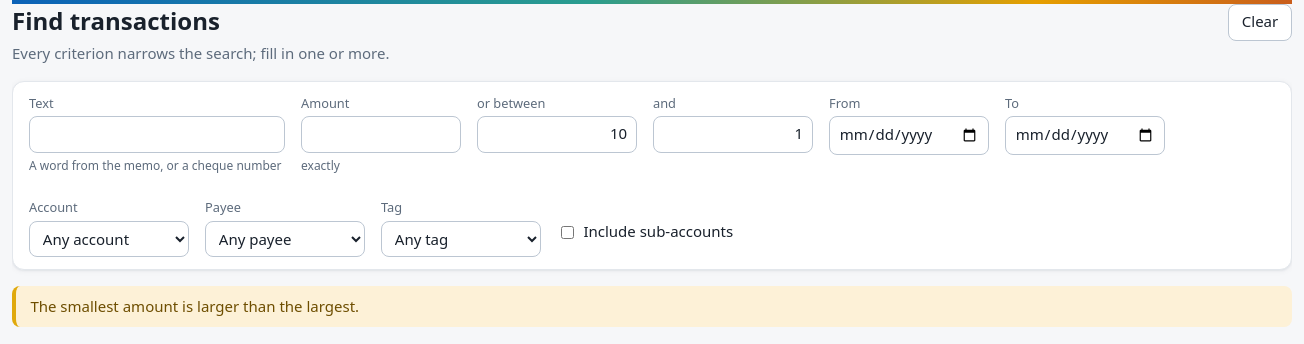
Test case: SearchPage › refuses nonsense locally and reports the server's answer
The width and height of the screenshot is (1304, 344).
Expected: the message shows "smallest amount is larger", [30,296,359,316]
Replace the text in the field named "Largest amount" with "abc" at (733,134), box [653,116,813,153]
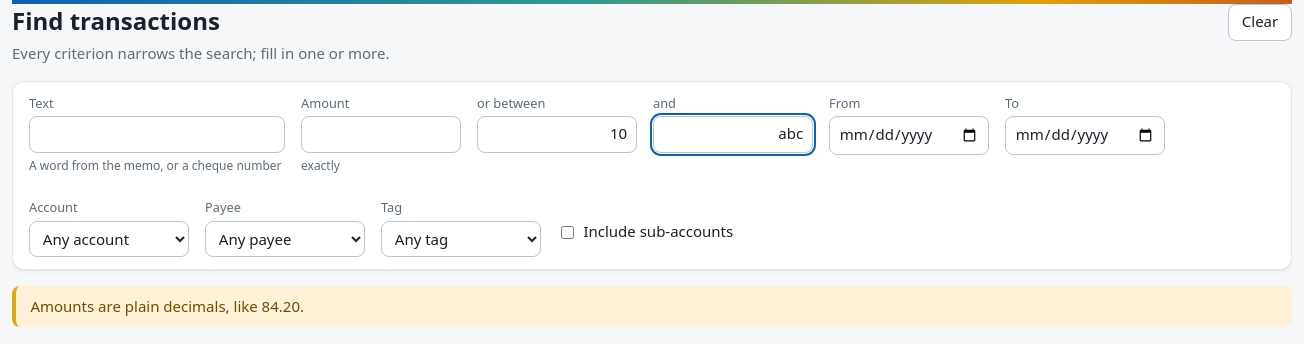
Result: the message shows "plain decimals" at [30,296,304,316]
Clear the field named "Largest amount" at (733,134), box [653,116,813,153]
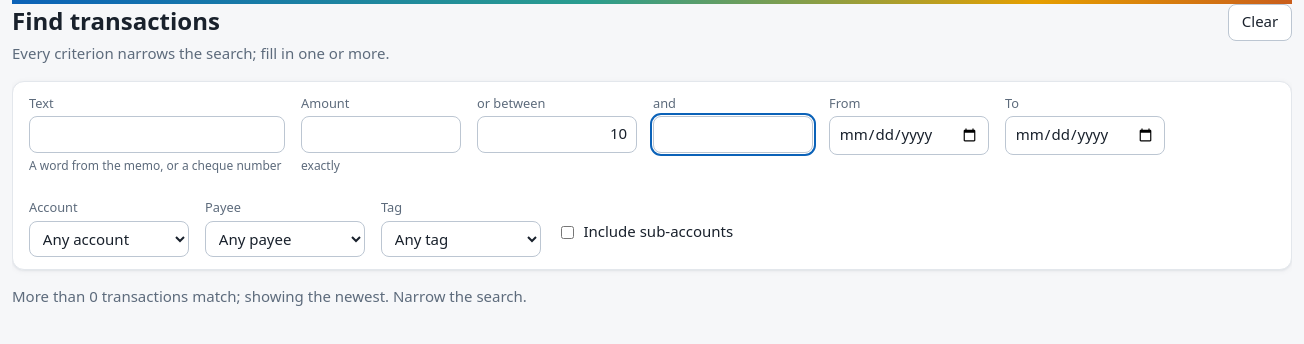
Result: the message shows "More than 0 transactions match" at [12,286,527,306]
